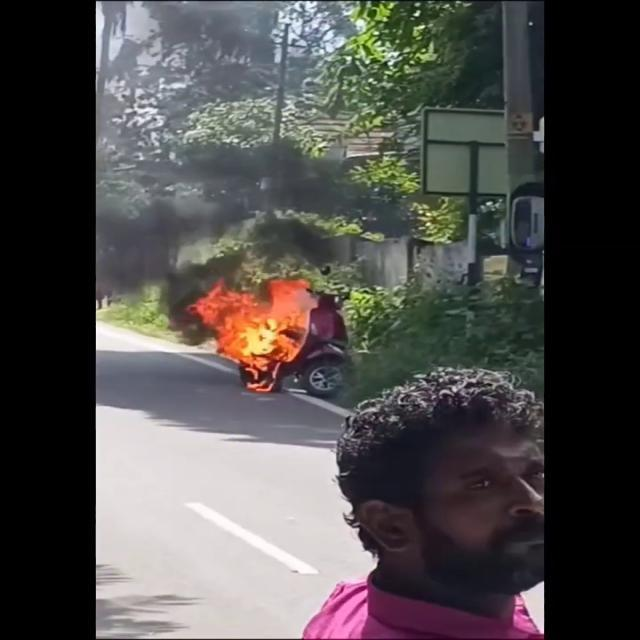Fire: (188, 273, 320, 386)
Smoke: (97, 134, 394, 286)
